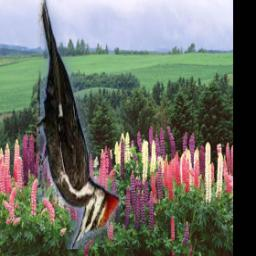Woodpecker: (37, 0, 121, 250)
